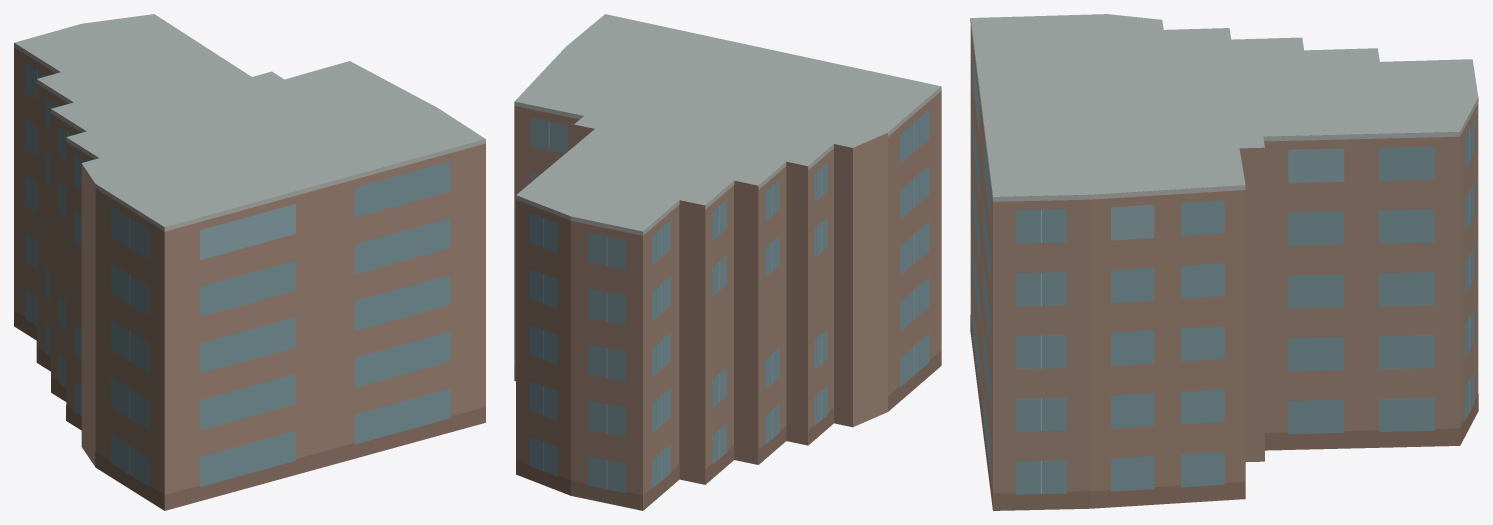
The model's file is survey-upis-32705024.glb.
The picture shows the model from 3 angles, left to right: view 1: azimuth 30°, elevation 25°; view 2: azimuth 150°, elevation 25°; view 3: azimuth 270°, elevation 25°; orthographic projection. The views are drawn at different scales.
Parts seen in each view (by area): view 1: survey-upis-32705024.tmp; view 2: survey-upis-32705024.tmp; view 3: survey-upis-32705024.tmp.
Part boxes in pixels (<box>): survey-upis-32705024.tmp: <box>14,14,485,510</box>; survey-upis-32705024.tmp: <box>514,14,941,510</box>; survey-upis-32705024.tmp: <box>970,14,1478,510</box>.
Size of the model in its own units: 19.55 by 15.64 by 22.94.
